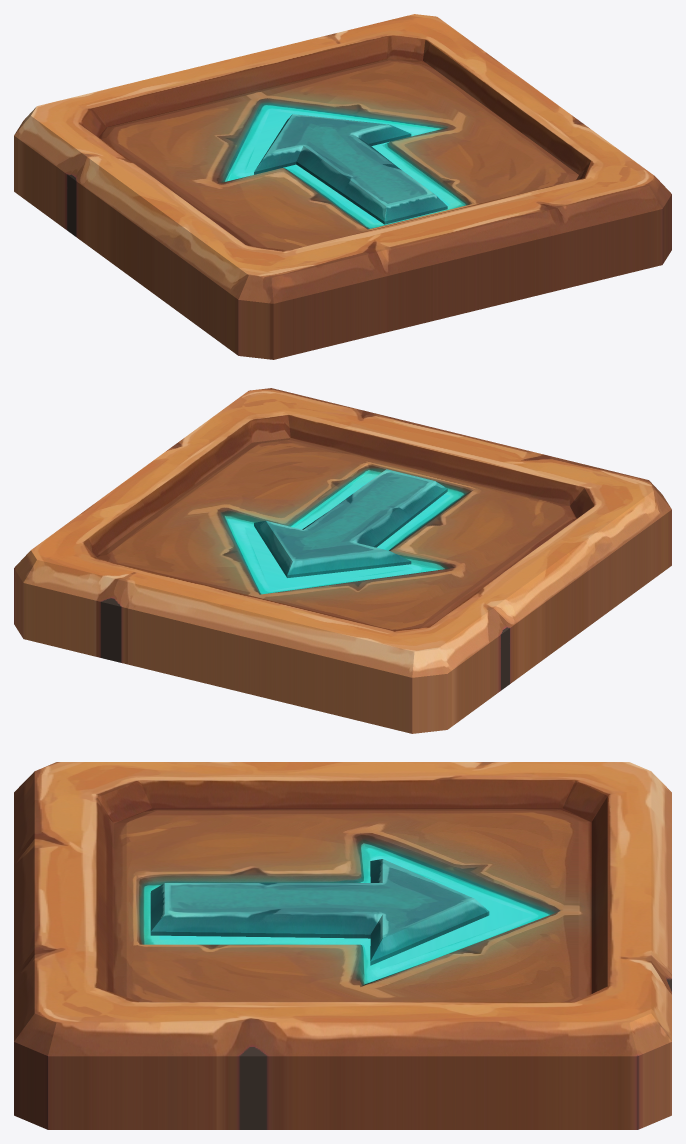
The model's file is arrowPlate01.glb.
The picture shows the model from 3 angles, top to bottom: view 1: azimuth 30°, elevation 25°; view 2: azimuth 150°, elevation 25°; view 3: azimuth 270°, elevation 25°; orthographic projection. The views are drawn at different scales.
Visible parts, largest first — view 1: ArrowPlate; view 2: ArrowPlate; view 3: ArrowPlate.
Part boxes in pixels (x1,y1,x2,y2): ArrowPlate: (14,14,671,359); ArrowPlate: (14,388,671,733); ArrowPlate: (14,762,671,1129).
Size of what is drawn, in the model's own units: 2.22 by 0.3665 by 2.22.
Materials: 1 (1 with a texture image).
